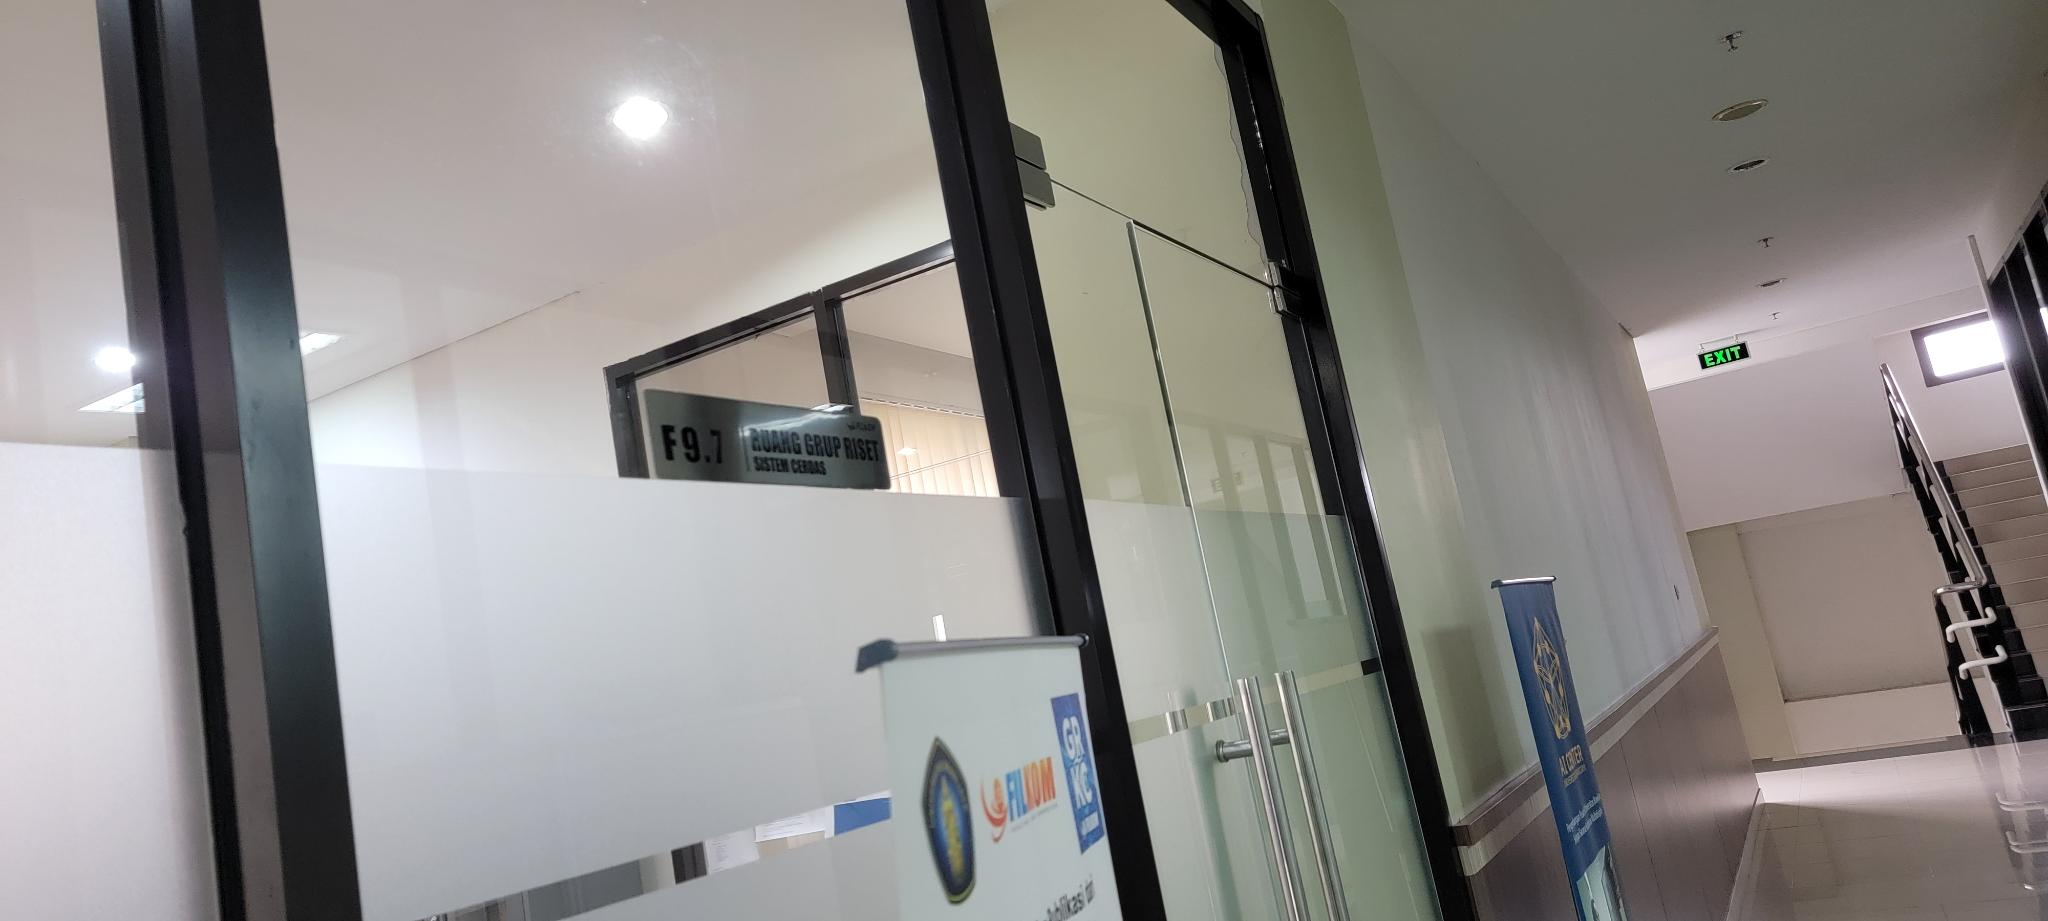plate: (644, 387, 892, 490)
